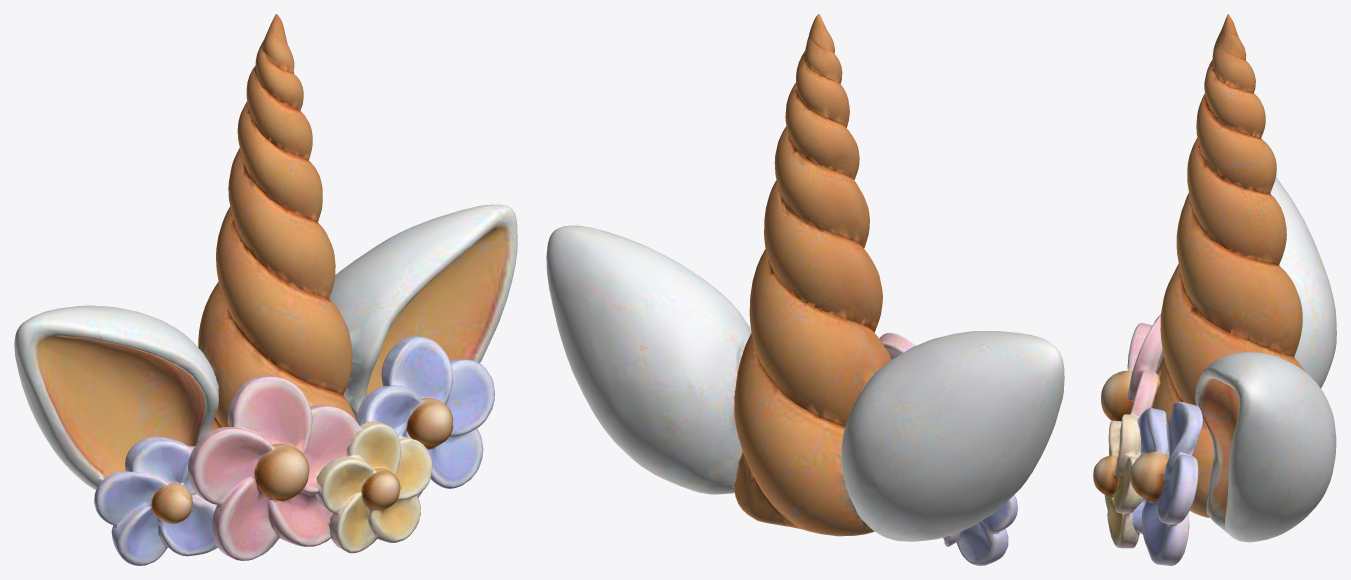
The picture shows the model from 3 angles, left to right: view 1: azimuth 30°, elevation 25°; view 2: azimuth 150°, elevation 25°; view 3: azimuth 270°, elevation 25°; orthographic projection. The views are drawn at different scales.
Bounding box in the file's own units: 1.9 × 1.84 × 0.8121.
Materials: 1 (1 with a texture image).
